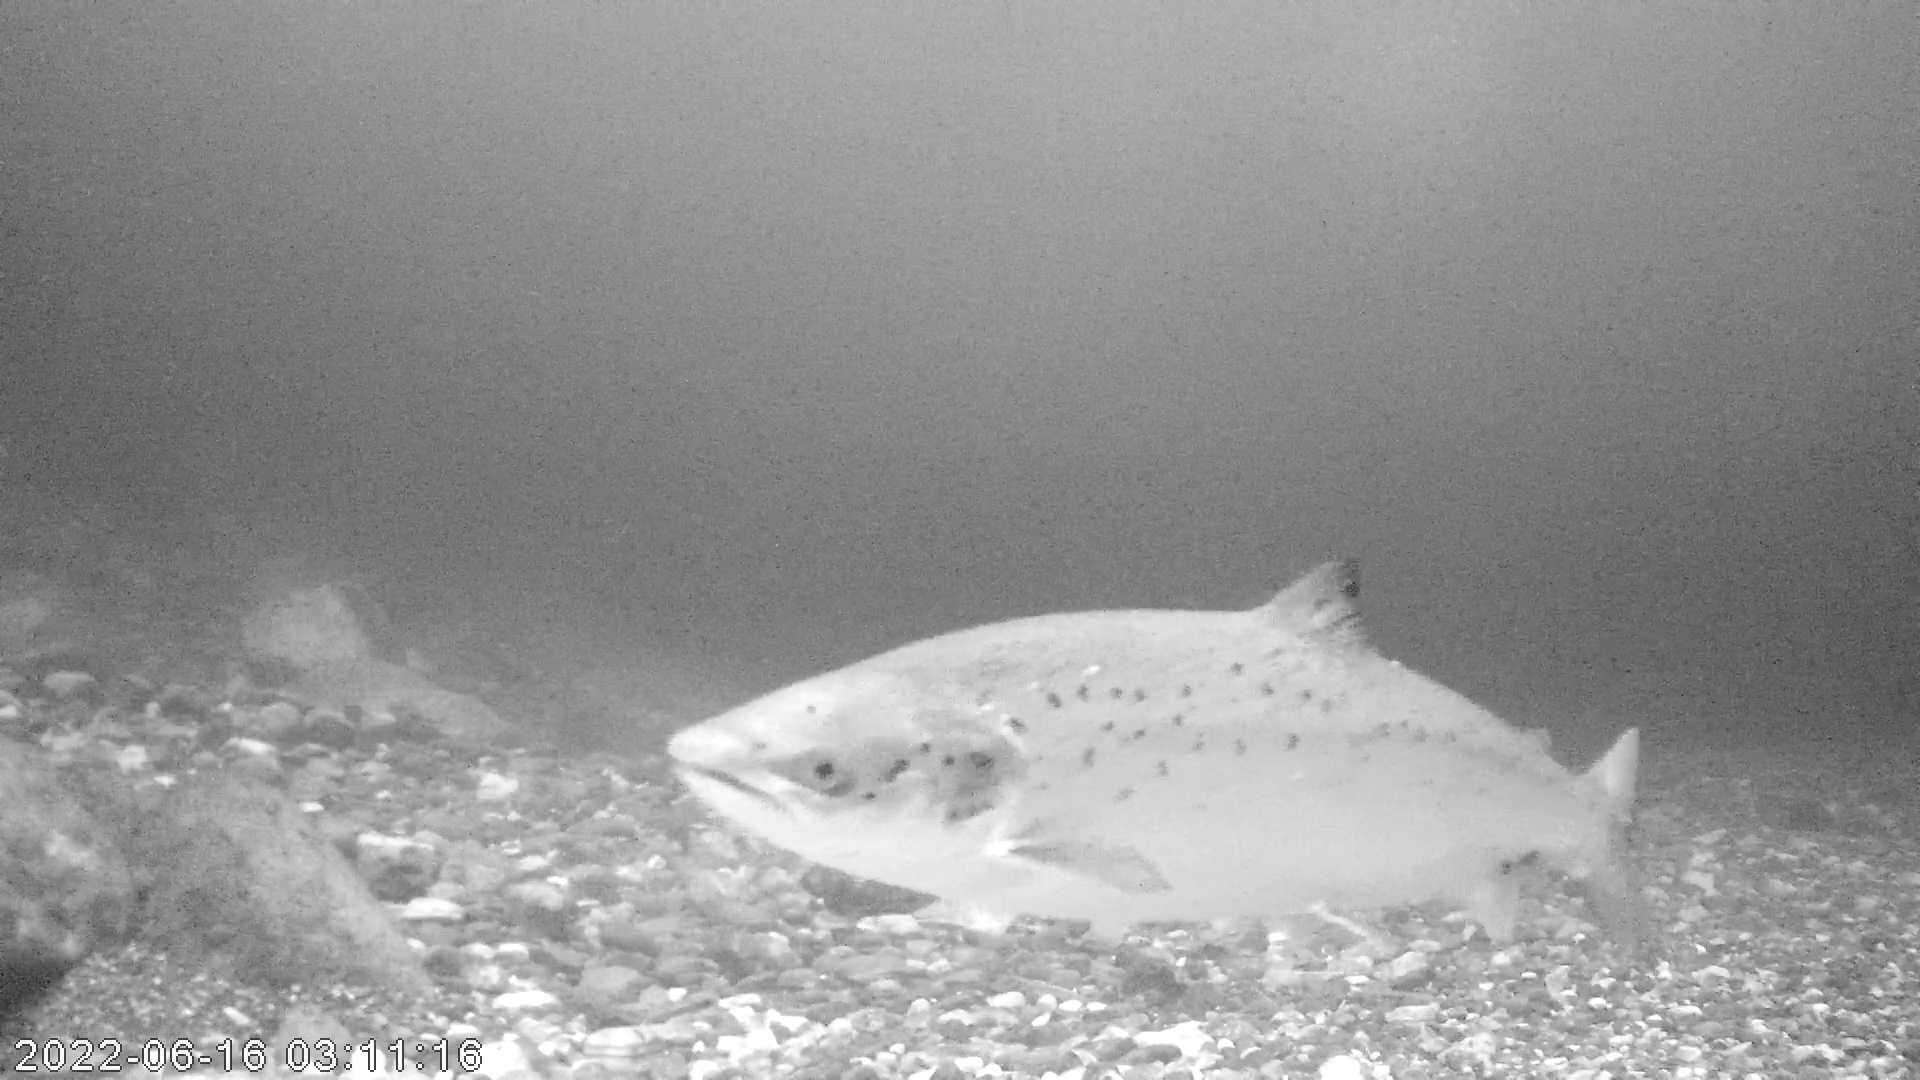salmon: (662, 549, 1646, 956)
